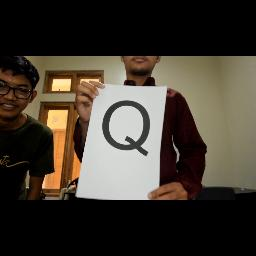q: (95, 94, 157, 166)
